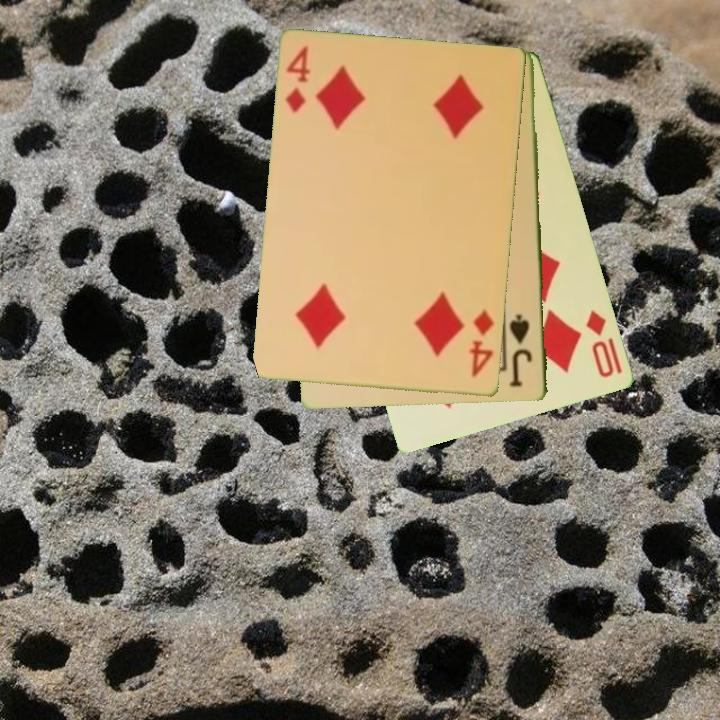10d: (583, 307, 626, 381)
4d: (282, 42, 314, 116), (466, 306, 497, 381)
Js: (507, 311, 535, 390)
